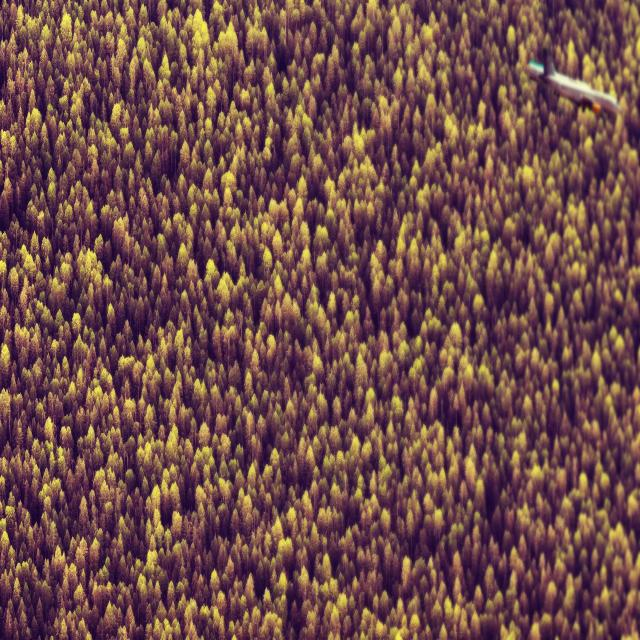airplane: (527, 51, 621, 120)
